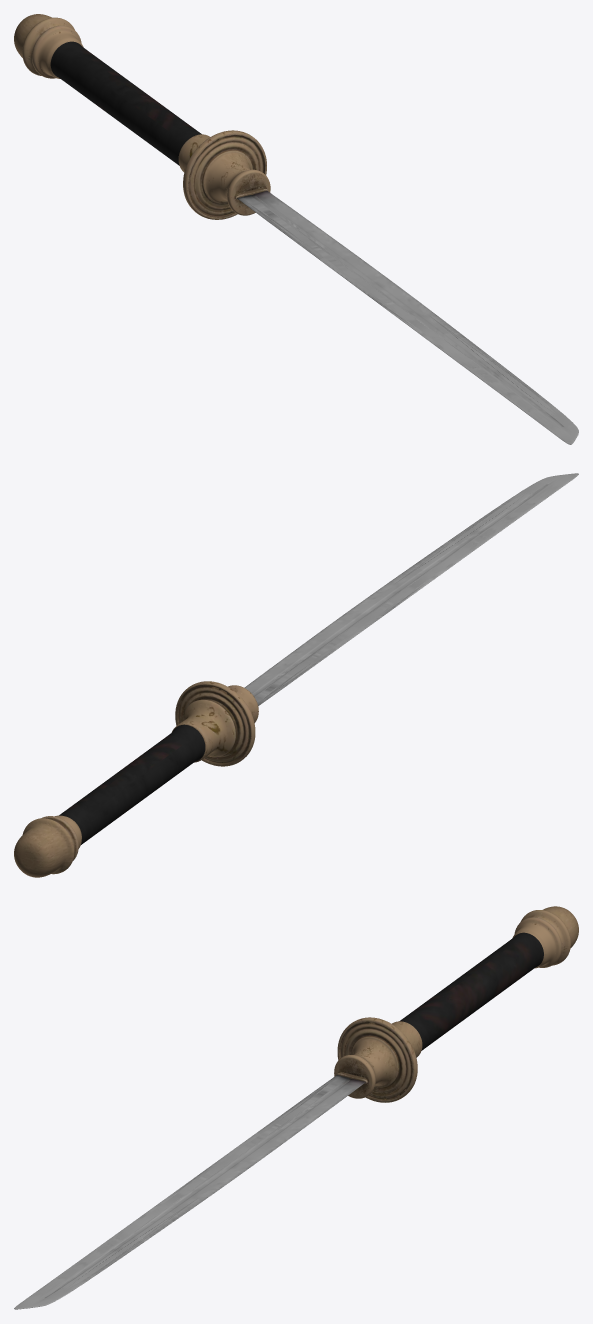
The model's file is katana.glb.
3 views of the same model, one above another, from view 1: azimuth 30°, elevation 25°; view 2: azimuth 150°, elevation 25°; view 3: azimuth 330°, elevation 25° (orthographic). The views are drawn at different scales.
Visible parts, largest first — view 1: Katana_Sword_0, Katana_Gold_0, Katana_Handle_0; view 2: Katana_Sword_0, Katana_Gold_0, Katana_Handle_0; view 3: Katana_Sword_0, Katana_Gold_0, Katana_Handle_0.
Boxes of the visible parts, x1=… form: Katana_Sword_0: x1=237, y1=191, x2=578, y2=444; Katana_Gold_0: x1=14, y1=14, x2=270, y2=219; Katana_Handle_0: x1=50, y1=41, x2=201, y2=165; Katana_Sword_0: x1=244, y1=473, x2=578, y2=705; Katana_Gold_0: x1=14, y1=681, x2=258, y2=877; Katana_Handle_0: x1=59, y1=724, x2=205, y2=844; Katana_Sword_0: x1=14, y1=1075, x2=365, y2=1309; Katana_Gold_0: x1=334, y1=906, x2=578, y2=1102; Katana_Handle_0: x1=399, y1=932, x2=543, y2=1050.
Size of the model in its own units: 0.0849 by 0.0849 by 1.
Materials: 3 (3 with a texture image).
